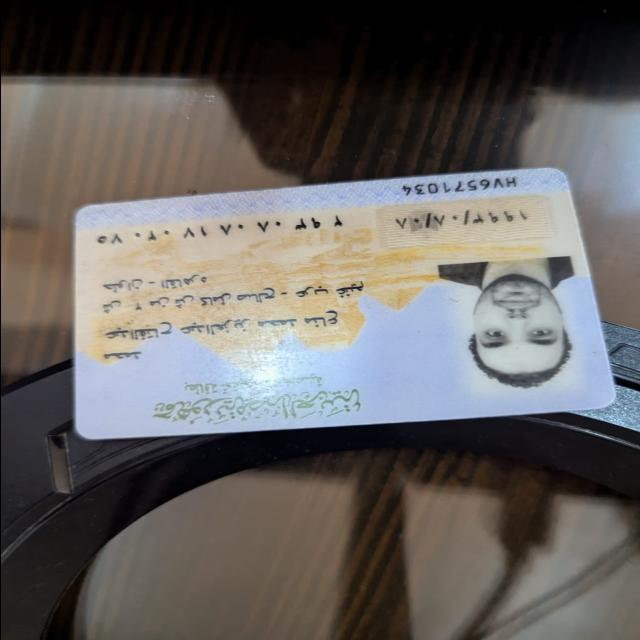id_card: (59, 156, 625, 445)
